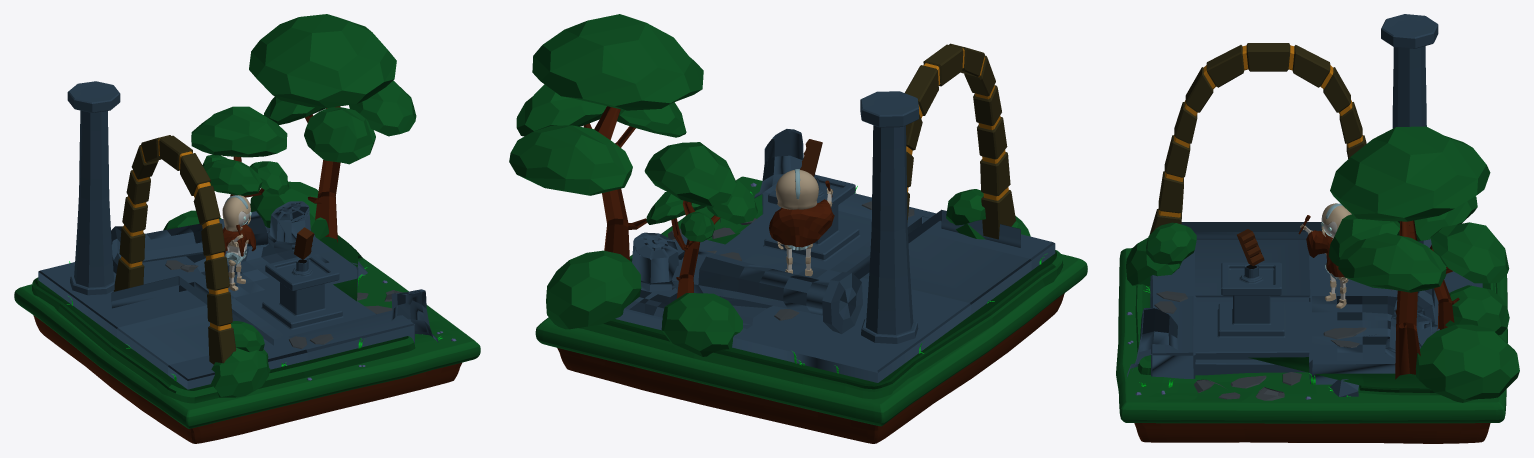
File: GameArtGrundscene_0002_bread_004_future.fbx
The picture shows the model from 3 angles, left to right: view 1: azimuth 30°, elevation 25°; view 2: azimuth 150°, elevation 25°; view 3: azimuth 270°, elevation 25°; orthographic projection. The views are drawn at different scales.
Visible parts, largest first — view 1: TempleFloor_2, Würfel_1_6, Platonischer_Körper_6, Portal_2, Pillar_3, Extrudieren, Würfel_2_7, Altar_4, Platonischer_Körper_8, Platonischer_Körper3, Pillar_3_2, Platonischer_Körper1 (+13 smaller); view 2: TempleFloor_2, Würfel_1_6, Platonischer_Körper_6, Pillar_3, Würfel_2_7, Extrudieren, Portal_2, Pillar_3_2, Platonischer_Körper2, Bush_4, Altar_4, Platonischer_Körper_8 (+14 smaller); view 3: TempleFloor_2, Würfel_1_6, Platonischer_Körper_6, Altar_4, Portal_2, Würfel_2_7, Bush_4, Platonischer_Körper1, Pillar_3, Extrudieren, Platonischer_Körper2, Tree_2 (+15 smaller).
Boxes of the visible parts, x1,y1,x2,y2 form: TempleFloor_2: [38, 226, 414, 389]; Würfel_1_6: [14, 258, 480, 428]; Platonischer_Körper_6: [249, 14, 396, 107]; Portal_2: [113, 135, 236, 364]; Pillar_3: [67, 81, 120, 295]; Extrudieren: [32, 235, 415, 403]; Würfel_2_7: [33, 315, 461, 443]; Altar_4: [239, 254, 374, 336]; Platonischer_Körper_8: [191, 106, 287, 157]; Platonischer_Körper3: [304, 107, 375, 164]; Pillar_3_2: [111, 211, 268, 273]; Platonischer_Körper1: [349, 80, 416, 136]; TempleFloor_2: [615, 183, 1055, 382]; Würfel_1_6: [535, 176, 1087, 426]; Platonischer_Körper_6: [532, 14, 703, 110]; Pillar_3: [860, 91, 918, 343]; Würfel_2_7: [557, 293, 1064, 443]; Extrudieren: [579, 232, 1063, 399]; Portal_2: [905, 43, 1015, 239]; Pillar_3_2: [671, 249, 862, 333]; Platonischer_Körper2: [509, 125, 632, 195]; Bush_4: [546, 250, 641, 329]; Altar_4: [725, 174, 871, 270]; Platonischer_Körper_8: [644, 142, 736, 205]; TempleFloor_2: [1150, 240, 1482, 384]; Würfel_1_6: [1116, 248, 1507, 423]; Platonischer_Körper_6: [1330, 126, 1490, 221]; Altar_4: [1195, 262, 1310, 359]; Portal_2: [1149, 43, 1366, 234]; Würfel_2_7: [1134, 423, 1490, 443]; Bush_4: [1415, 324, 1519, 402]; Platonischer_Körper1: [1338, 233, 1446, 292]; Pillar_3: [1381, 14, 1438, 128]; Extrudieren: [1135, 283, 1497, 402]; Platonischer_Körper2: [1430, 222, 1509, 283]; Tree_2: [1395, 220, 1452, 379].
Size of the model in its own units: 21.86 by 16.41 by 19.6.
17 materials, 1 textured.
